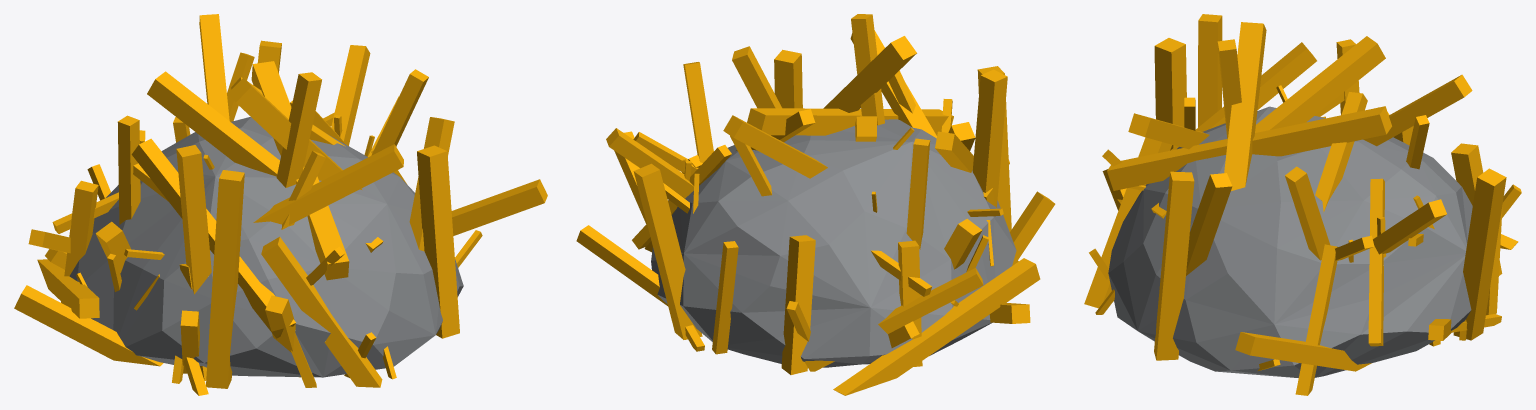
File: PointyGemsVar1.fbx
3 views of the same model, side by side, from view 1: azimuth 30°, elevation 25°; view 2: azimuth 150°, elevation 25°; view 3: azimuth 270°, elevation 25° (orthographic). The views are drawn at different scales.
Parts seen in each view (by area): view 1: PointyGemsVar1Granite; view 2: PointyGemsVar1Granite; view 3: PointyGemsVar1Granite.
Boxes of the visible parts, bbox=[...] form: PointyGemsVar1Granite: bbox=[14, 14, 547, 395]; PointyGemsVar1Granite: bbox=[576, 14, 1055, 395]; PointyGemsVar1Granite: bbox=[1084, 14, 1521, 395].
Size of the model in its own units: 253 by 130 by 197.
